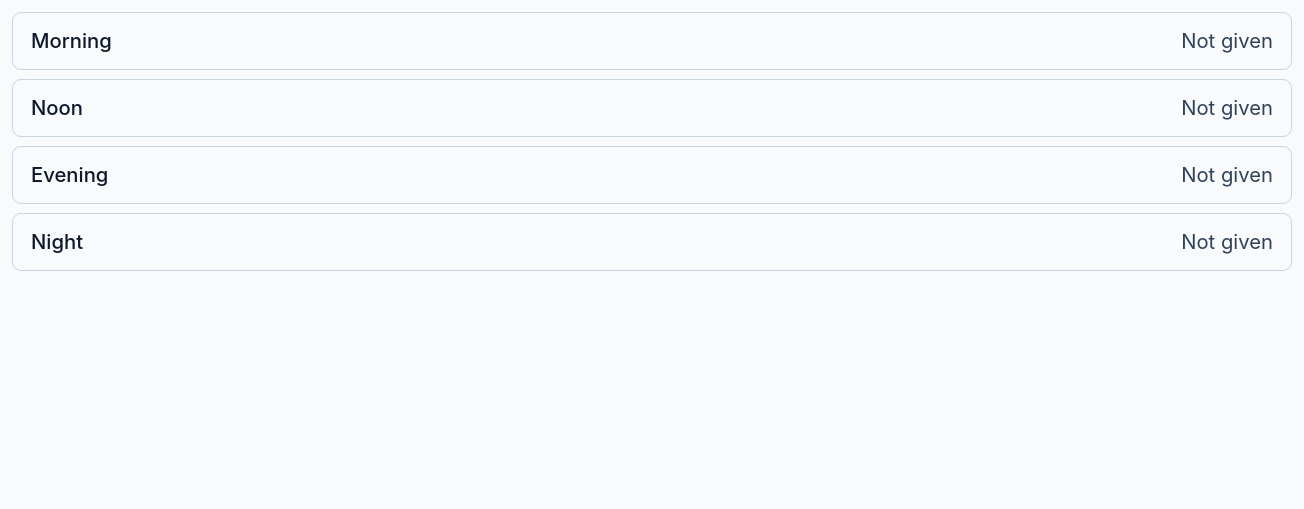
Test: DoseTimeList › setting whole=2 with part unchanged at None produces 2 / "2 tablets"
Click the button "Morning Not given": (71, 41) top-left (13, 13), bottom-right (1291, 69)
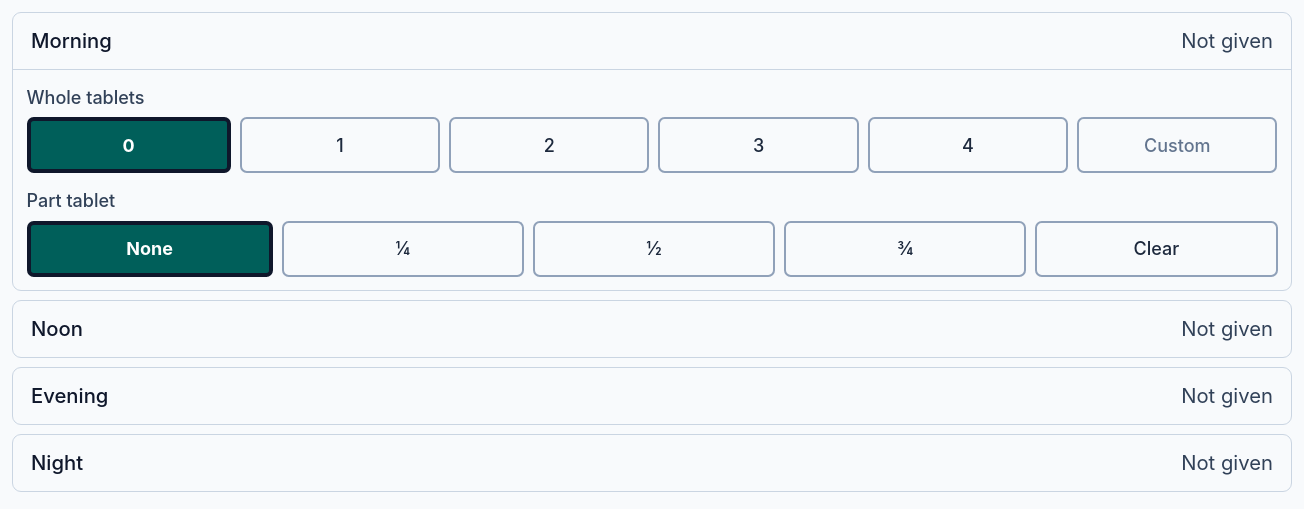
Click the button "2": (549, 145) top-left (449, 117), bottom-right (650, 173)
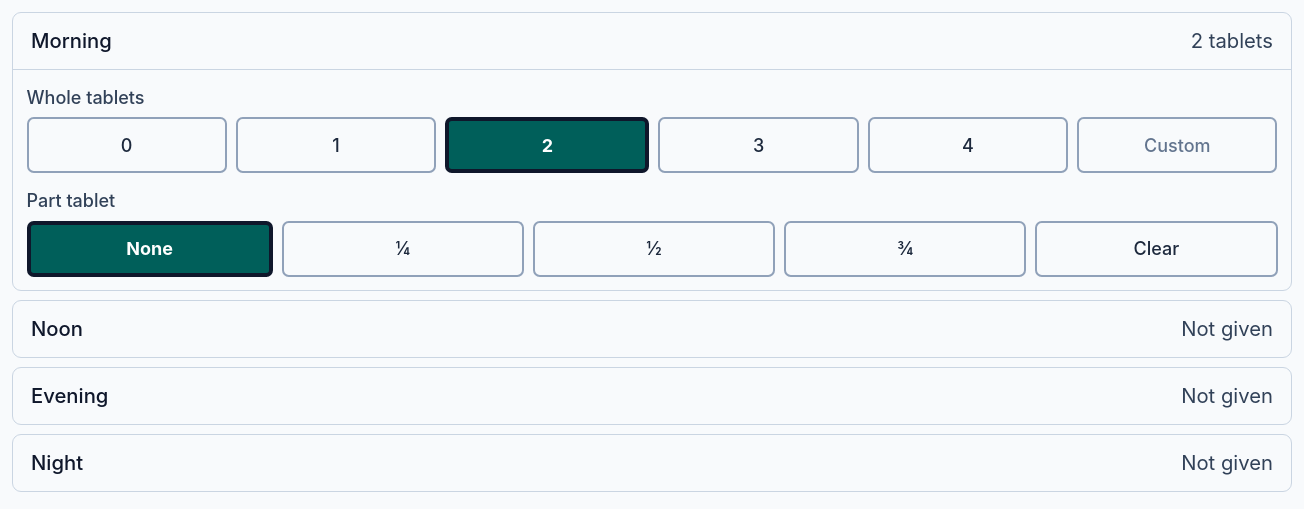
Expected: the button "Morning 2 tablets" is shown, top-left (13, 13), bottom-right (1291, 69)
